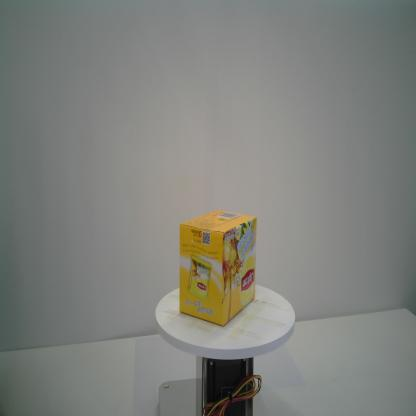Instant Drink: (179, 208, 257, 326)
